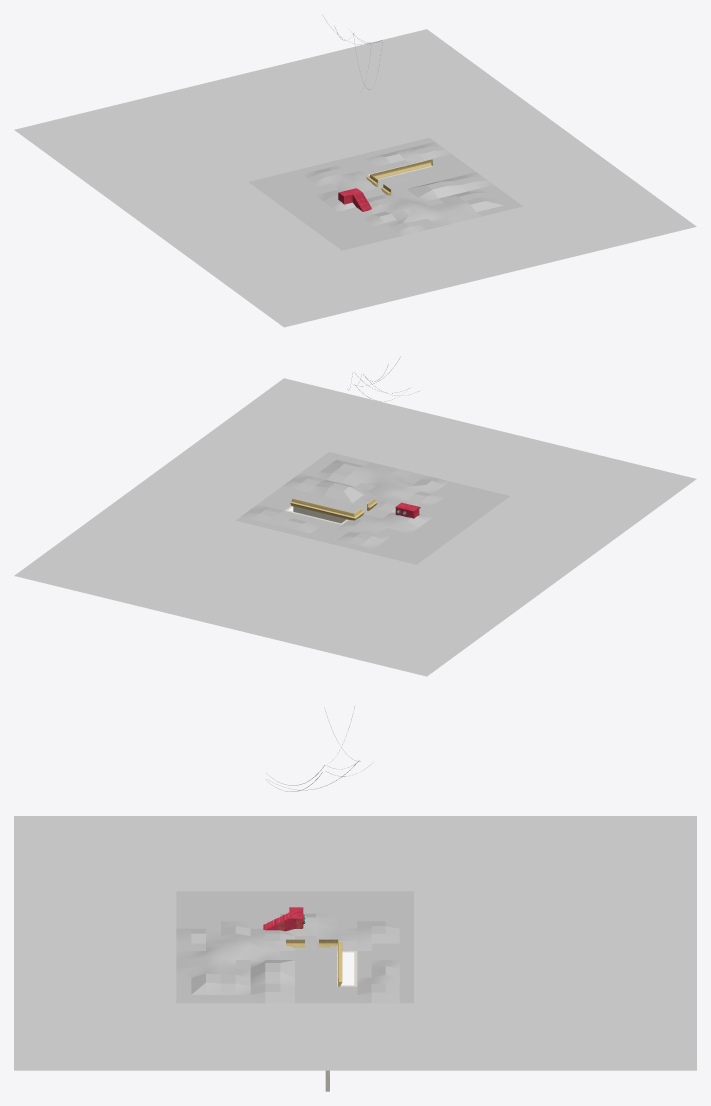
The model's file is Zuberziki_02 Parts.FBX.
The picture shows the model from 3 angles, top to bottom: view 1: azimuth 30°, elevation 25°; view 2: azimuth 150°, elevation 25°; view 3: azimuth 270°, elevation 25°; orthographic projection. The views are drawn at different scales.
Parts seen in each view (by area): view 1: Component#4_001, Group_005; view 2: Component#4_001, Group_005; view 3: Component#4_001.
Part boxes in pixels (x1,y1,x2,y2): Component#4_001: (14,29,696,327); Group_005: (366,159,432,195); Component#4_001: (14,378,696,676); Group_005: (290,498,377,520); Component#4_001: (14,816,696,1070).
Bounding box in the file's own units: 94.81 × 56.21 × 107.
